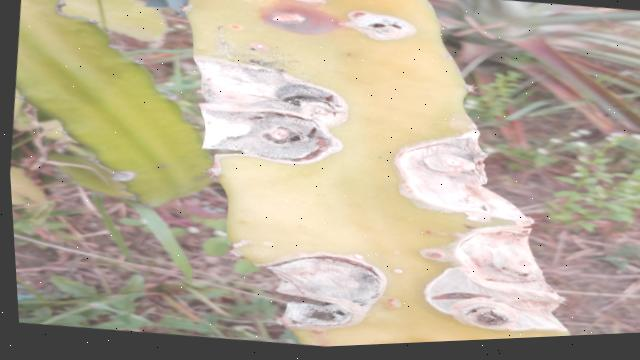stemcanker: (265, 2, 317, 36), (413, 243, 449, 267), (215, 18, 248, 39), (377, 293, 406, 313), (226, 37, 256, 56), (369, 263, 395, 280)
